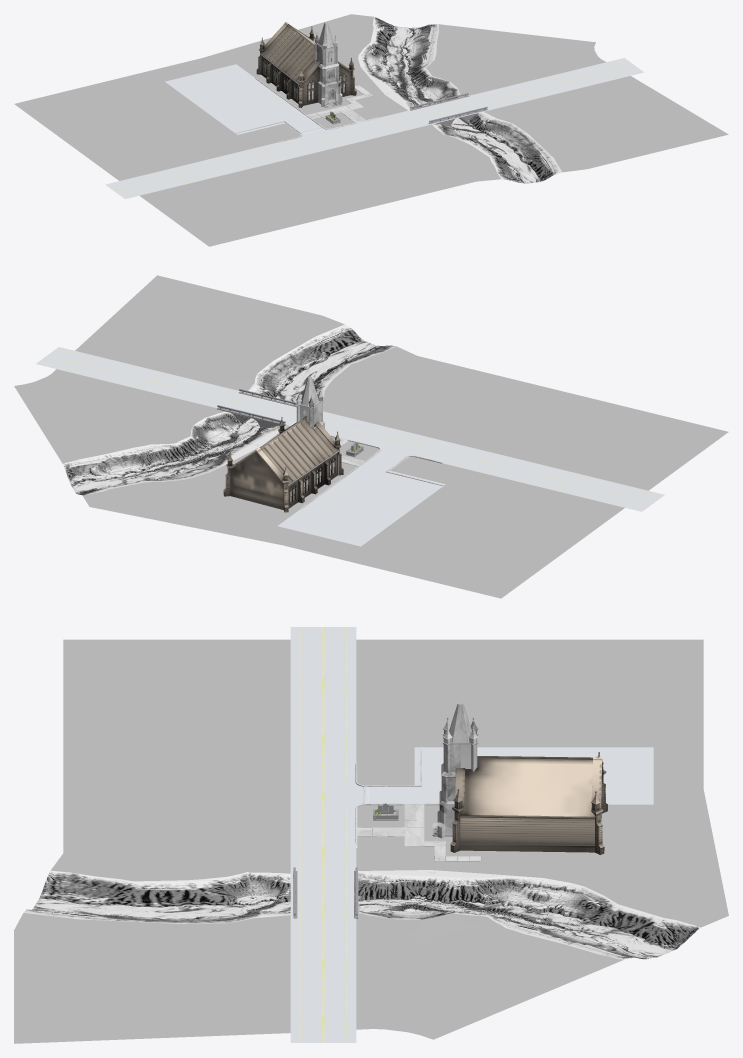
File: ChurchMap.fbx
3 views of the same model, one above another, from view 1: azimuth 30°, elevation 25°; view 2: azimuth 150°, elevation 25°; view 3: azimuth 270°, elevation 25° (orthographic). The views are drawn at different scales.
Parts seen in each view (by area): view 1: SM_Church_Ground_01.mo, SM_Church_Road_01.mo, SM_Hometown_Church_01.mo, SM_HometownNM_Church_02.mo, SM_Church_Sidewalk_01.mo, SM_Church_Bridge_01.mo; view 2: SM_Church_Ground_01.mo, SM_Church_Road_01.mo, SM_Hometown_Church_01.mo, SM_HometownNM_Church_02.mo, SM_Church_Bridge_01.mo, SM_Church_Sidewalk_01.mo; view 3: SM_Church_Ground_01.mo, SM_Church_Road_01.mo, SM_Hometown_Church_01.mo, SM_HometownNM_Church_02.mo, SM_Church_Sidewalk_01.mo.
Part boxes in pixels (<box>): SM_Church_Ground_01.mo: <box>14,14,728,246</box>; SM_Church_Road_01.mo: <box>105,58,644,198</box>; SM_Hometown_Church_01.mo: <box>256,22,356,107</box>; SM_HometownNM_Church_02.mo: <box>314,22,342,107</box>; SM_Church_Sidewalk_01.mo: <box>236,78,379,142</box>; SM_Church_Bridge_01.mo: <box>410,93,487,125</box>; SM_Church_Ground_01.mo: <box>14,275,728,598</box>; SM_Church_Road_01.mo: <box>36,347,664,546</box>; SM_Hometown_Church_01.mo: <box>223,416,343,512</box>; SM_HometownNM_Church_02.mo: <box>296,376,325,428</box>; SM_Church_Bridge_01.mo: <box>217,389,296,427</box>; SM_Church_Sidewalk_01.mo: <box>300,435,443,509</box>; SM_Church_Ground_01.mo: <box>14,639,728,1043</box>; SM_Church_Road_01.mo: <box>290,627,653,1042</box>; SM_Hometown_Church_01.mo: <box>450,752,607,854</box>; SM_HometownNM_Church_02.mo: <box>432,702,478,838</box>; SM_Church_Sidewalk_01.mo: <box>355,746,481,861</box>.
Bounding box in the file's own units: 14454 × 2523 × 10499.
